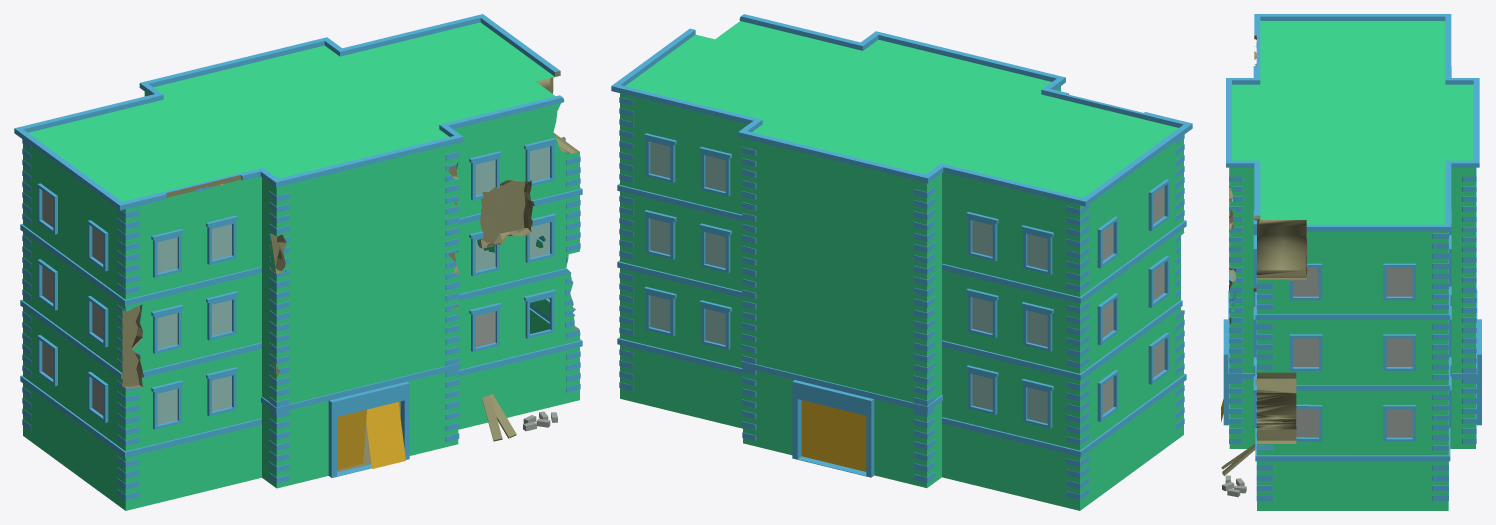
File: HouseBuil.fbx
The picture shows the model from 3 angles, left to right: view 1: azimuth 30°, elevation 25°; view 2: azimuth 150°, elevation 25°; view 3: azimuth 270°, elevation 25°; orthographic projection. The views are drawn at different scales.
Parts seen in each view (by area): view 1: Cube, Cube.009, Cube.010, Cube.011; view 2: Cube; view 3: Cube, Cube.003.
Boxes of the visible parts, x1,y1,x2,y2 form: Cube: [14, 14, 582, 510]; Cube.009: [366, 402, 405, 468]; Cube.010: [337, 409, 366, 469]; Cube.011: [157, 313, 177, 348]; Cube: [611, 14, 1192, 510]; Cube: [1223, 14, 1481, 510]; Cube.003: [1222, 475, 1246, 497].
Size of the model in its own units: 3094 by 1968 by 1600.
